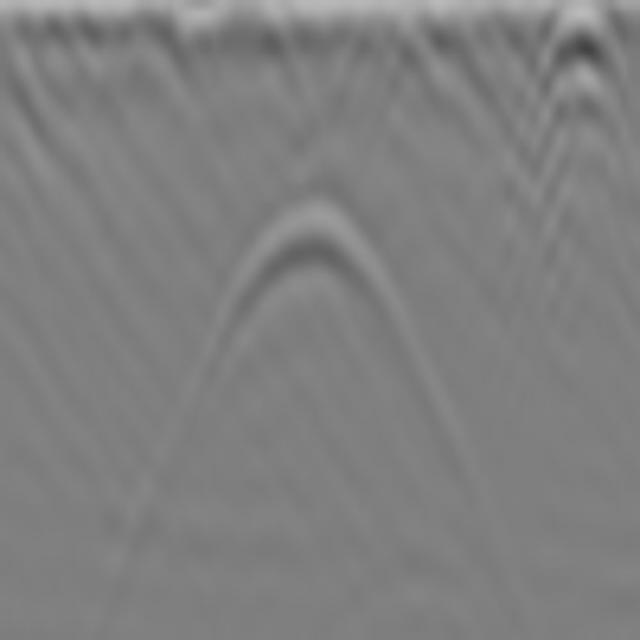hyperbola: (200, 180, 418, 408)
